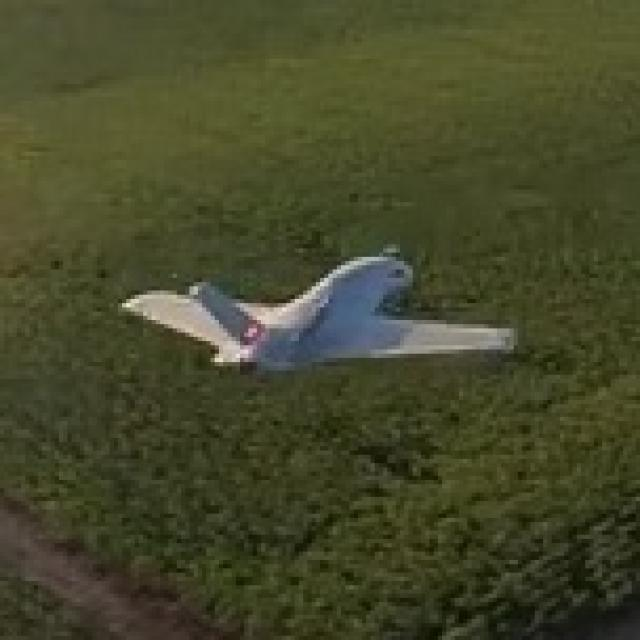iha: (130, 238, 514, 406)
